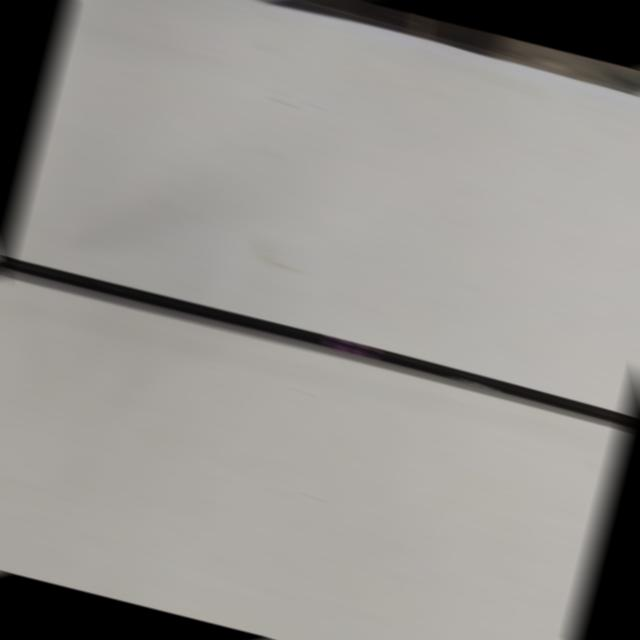pink: (326, 335, 376, 358)
